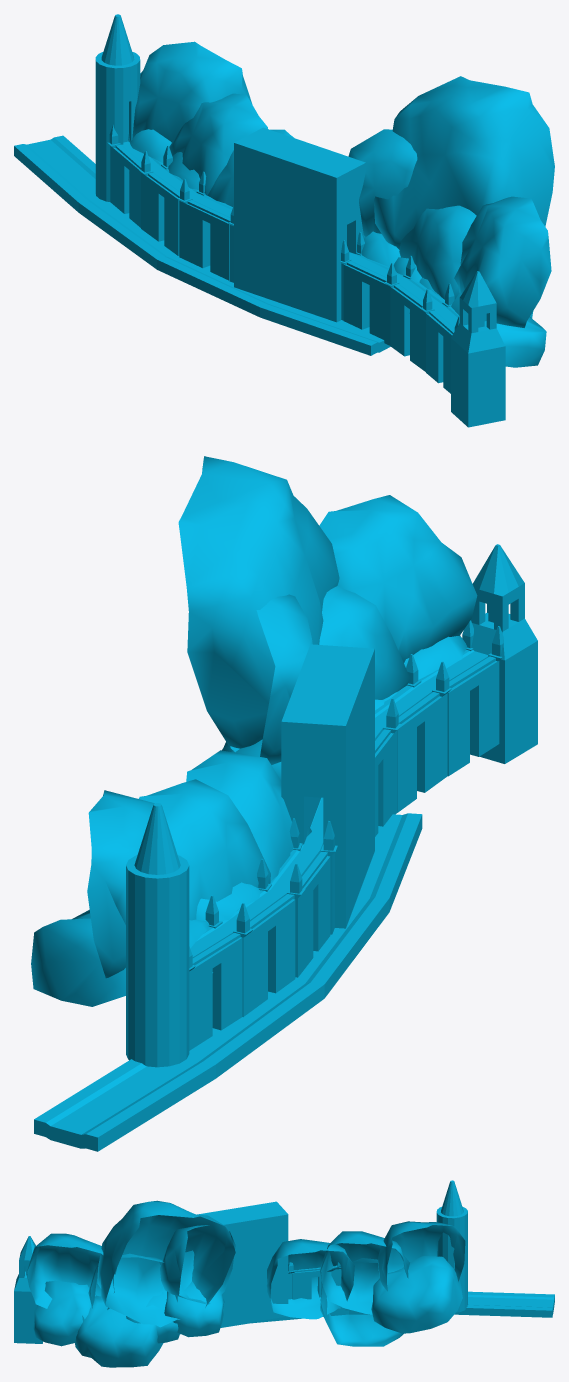
File: world_collision.glb
The picture shows the model from 3 angles, top to bottom: view 1: azimuth 30°, elevation 25°; view 2: azimuth 150°, elevation 25°; view 3: azimuth 270°, elevation 25°; orthographic projection. The views are drawn at different scales.
Visible parts, largest first — view 1: COL_cliff-col, COL_tunnel-col, COL_cliff-col.001, COL_path-col.002, COL_belltower-col, COL_dometower-col, COL_bridge_b-col.005, COL_bridge_b-col.002, COL_bridge_b-col.006, COL_bridge_b-col, COL_bridge_b-col.007, COL_path-col.001 (+2 smaller); view 2: COL_cliff-col, COL_cliff-col.001, COL_path-col.002, COL_tunnel-col, COL_dometower-col, COL_belltower-col, COL_bridge_b-col.006, COL_bridge_b-col.001, COL_bridge_b-col, COL_bridge_b-col.007, COL_path-col, COL_bridge_b-col.005 (+3 smaller); view 3: COL_cliff-col, COL_cliff-col.001, COL_tunnel-col, COL_path-col.002, COL_dometower-col, COL_belltower-col, COL_bridge_b-col.005.
Part boxes in pixels (left/top/right/bottom): COL_cliff-col: left=348, top=76, right=554, bottom=367; COL_tunnel-col: left=234, top=127, right=365, bottom=322; COL_cliff-col.001: left=128, top=41, right=293, bottom=206; COL_path-col.002: left=14, top=135, right=390, bottom=355; COL_belltower-col: left=451, top=271, right=505, bottom=427; COL_dometower-col: left=95, top=14, right=140, bottom=201; COL_bridge_b-col.005: left=178, top=171, right=229, bottom=280; COL_bridge_b-col.002: left=343, top=256, right=415, bottom=345; COL_bridge_b-col.006: left=139, top=145, right=179, bottom=255; COL_bridge_b-col: left=390, top=283, right=454, bottom=371; COL_bridge_b-col.007: left=107, top=125, right=140, bottom=227; COL_path-col.001: left=347, top=252, right=459, bottom=333; COL_cliff-col: left=178, top=456, right=477, bottom=780; COL_cliff-col.001: left=31, top=750, right=311, bottom=1006; COL_path-col.002: left=34, top=813, right=422, bottom=1151; COL_tunnel-col: left=281, top=644, right=374, bottom=928; COL_dometower-col: left=126, top=803, right=189, bottom=1067; COL_belltower-col: left=471, top=544, right=537, bottom=763; COL_bridge_b-col.006: left=205, top=895, right=295, bottom=1016; COL_bridge_b-col.001: left=447, top=620, right=503, bottom=776; COL_bridge_b-col: left=397, top=654, right=451, bottom=812; COL_bridge_b-col.007: left=189, top=937, right=242, bottom=1050; COL_path-col: left=190, top=807, right=327, bottom=965; COL_bridge_b-col.005: left=257, top=856, right=330, bottom=977; COL_cliff-col: left=26, top=1200, right=235, bottom=1367; COL_cliff-col.001: left=266, top=1221, right=465, bottom=1346; COL_tunnel-col: left=197, top=1201, right=288, bottom=1327; COL_path-col.002: left=180, top=1291, right=554, bottom=1334; COL_dometower-col: left=436, top=1180, right=467, bottom=1312; COL_belltower-col: left=14, top=1236, right=43, bottom=1343; COL_bridge_b-col.005: left=292, top=1262, right=341, bottom=1307.
Size of the model in its own units: 42.61 by 43.94 by 119.
